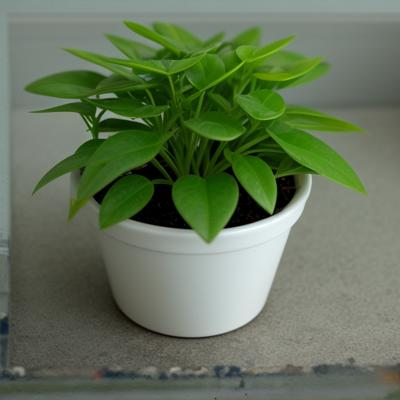pottedplant: (7, 13, 400, 367)
